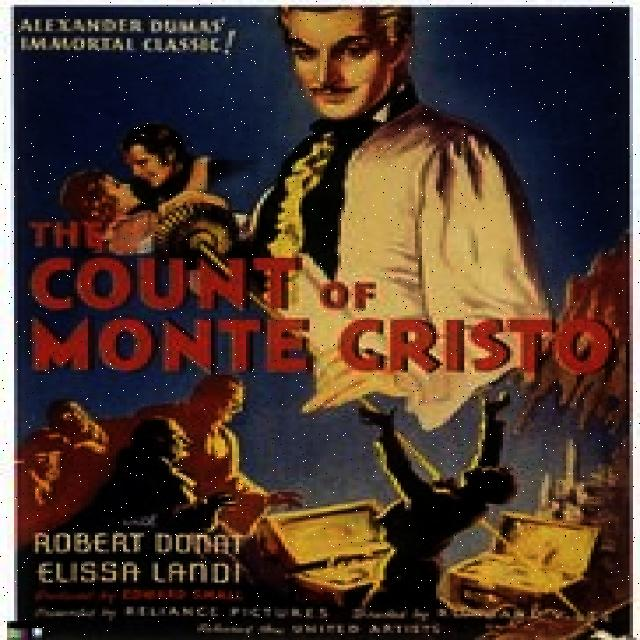movie-judul: (14, 219, 626, 381)
picture: (28, 381, 632, 618), (264, 7, 530, 213), (57, 127, 232, 213)
